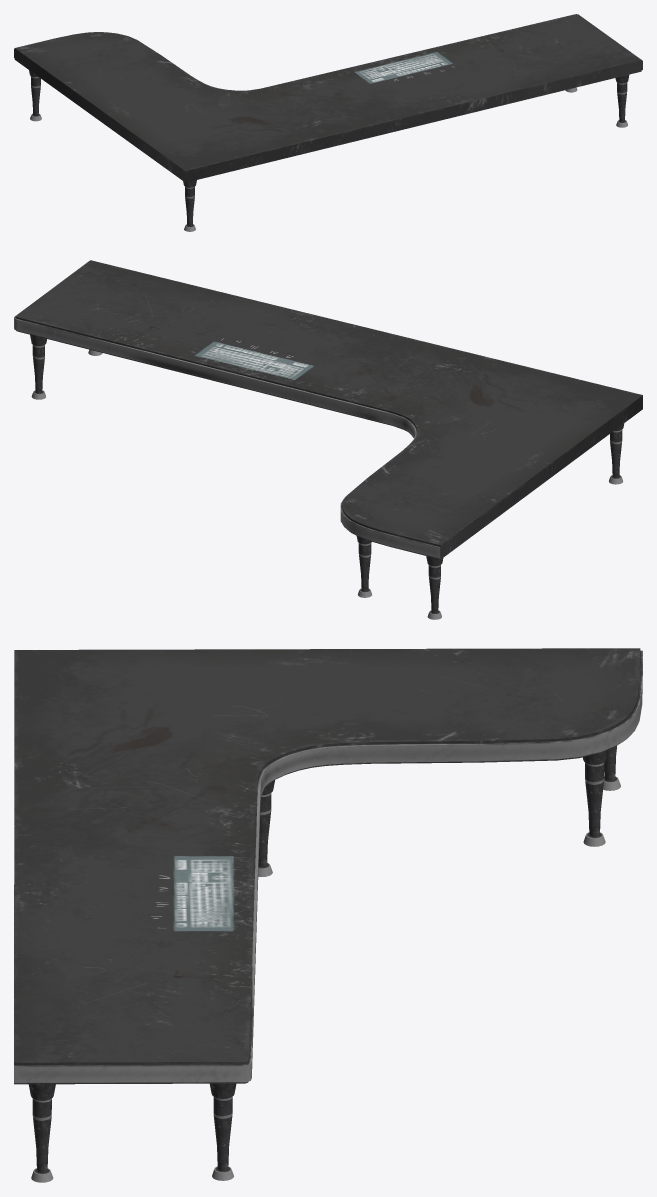
File: SM_Table_07.fbx
3 renders of one model, top to bottom at view 1: azimuth 30°, elevation 25°; view 2: azimuth 150°, elevation 25°; view 3: azimuth 270°, elevation 25°, orthographic. The views are drawn at different scales.
Parts seen in each view (by area): view 1: SM_Table_07_LOD0; view 2: SM_Table_07_LOD0; view 3: SM_Table_07_LOD0.
Part boxes in pixels (x1,y1,x2,y2): SM_Table_07_LOD0: [14, 14, 642, 231]; SM_Table_07_LOD0: [14, 260, 642, 619]; SM_Table_07_LOD0: [14, 648, 642, 1182].
Bounding box in the file's own units: 648 × 414 × 91.7.
